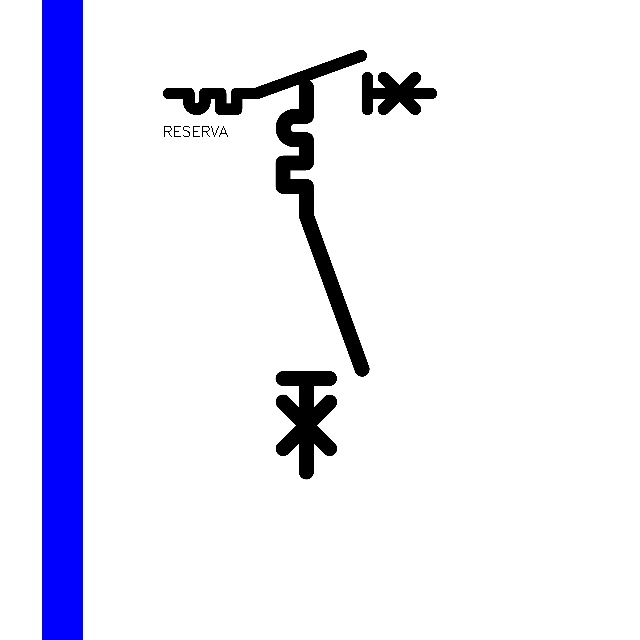interruptor_termomagnetico: (273, 77, 372, 482), (162, 49, 438, 116)
